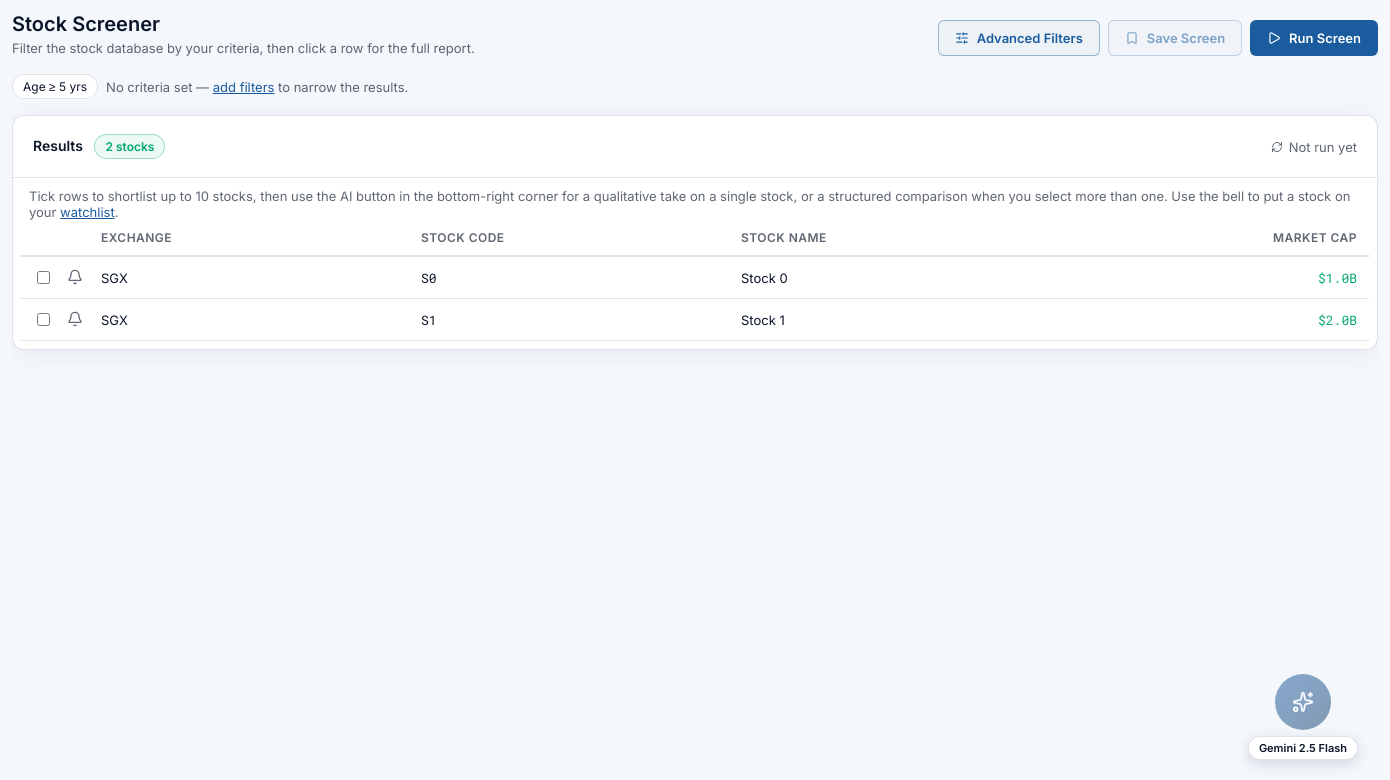
Test: Screener - Analyze with AI › shows a head-to-head comparison table when two or more stocks are analyzed
Click the checkbox named "Select Stock 0": (44, 278) left=37, top=271, right=50, bottom=284
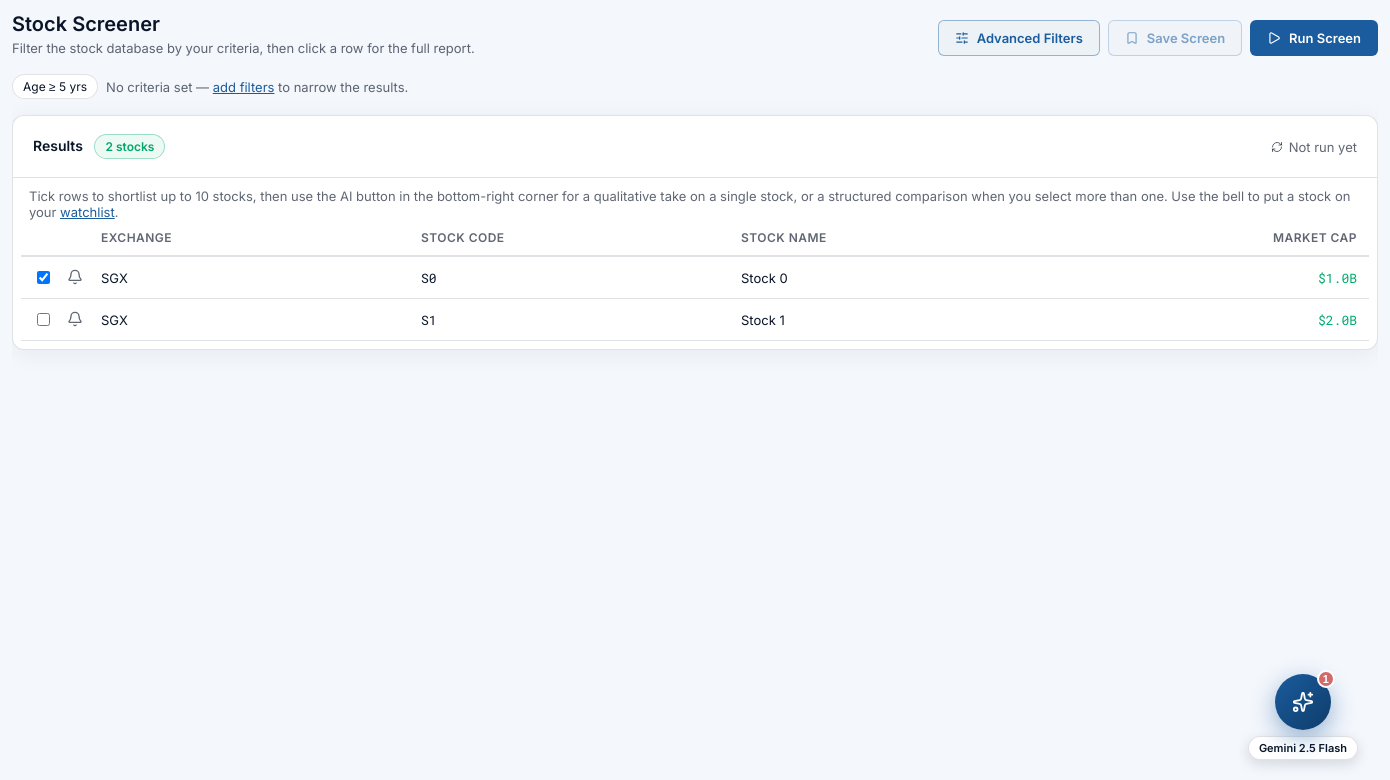
Click the checkbox named "Select Stock 1": (44, 320) left=37, top=313, right=50, bottom=326
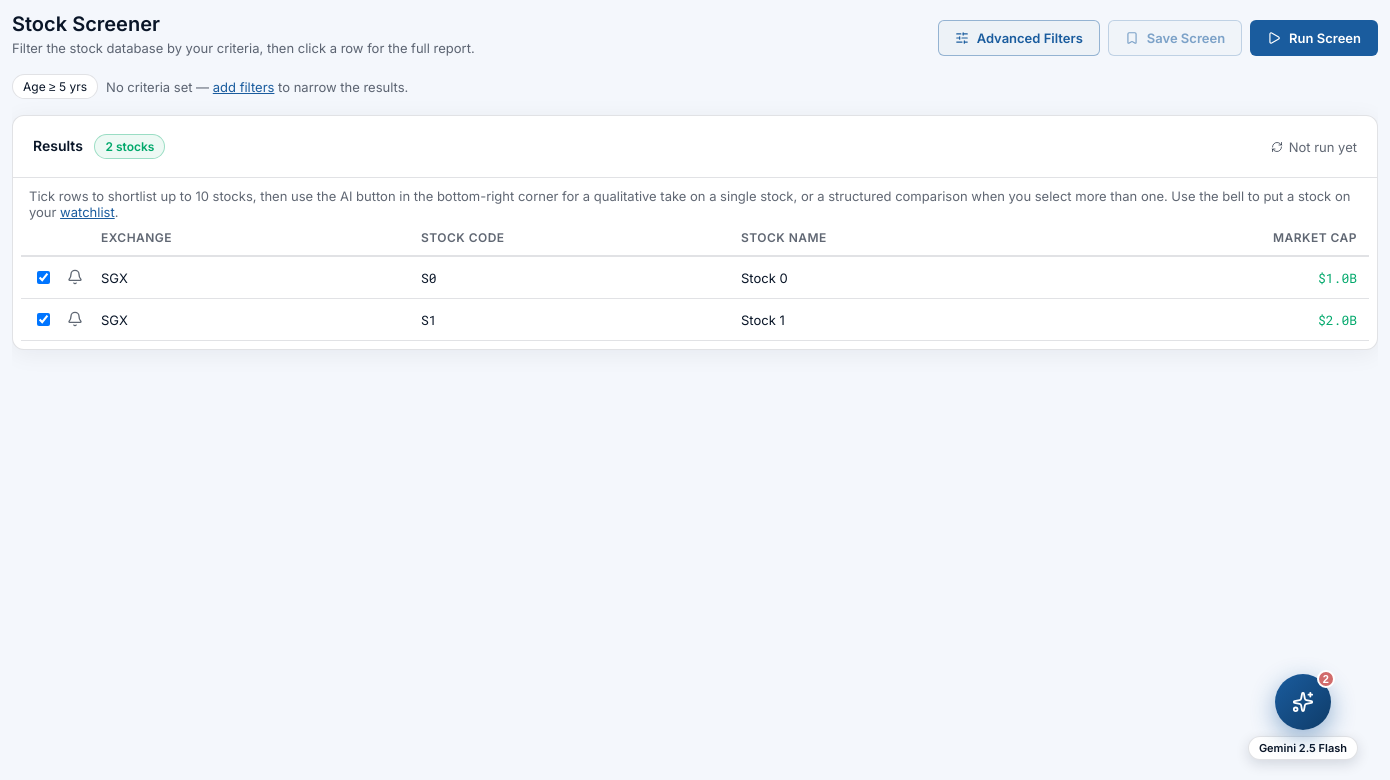
Click the button named "analyze 2 selected stocks with ai": (1303, 702) left=1275, top=674, right=1331, bottom=730
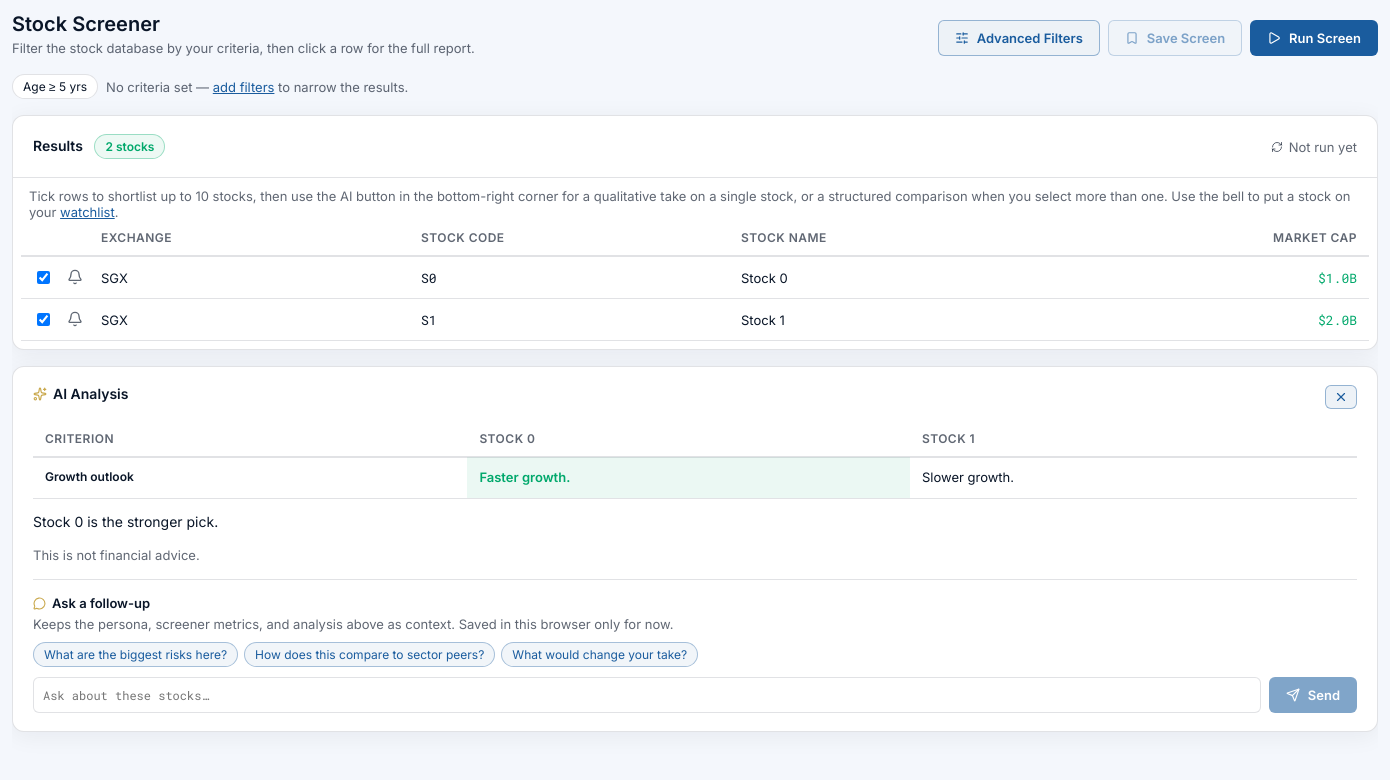
Expected: the text "Growth outlook" is shown, left=33, top=457, right=467, bottom=498
Expected: the text "Stock 0 is the stronger pick." is shown, left=33, top=512, right=218, bottom=530
